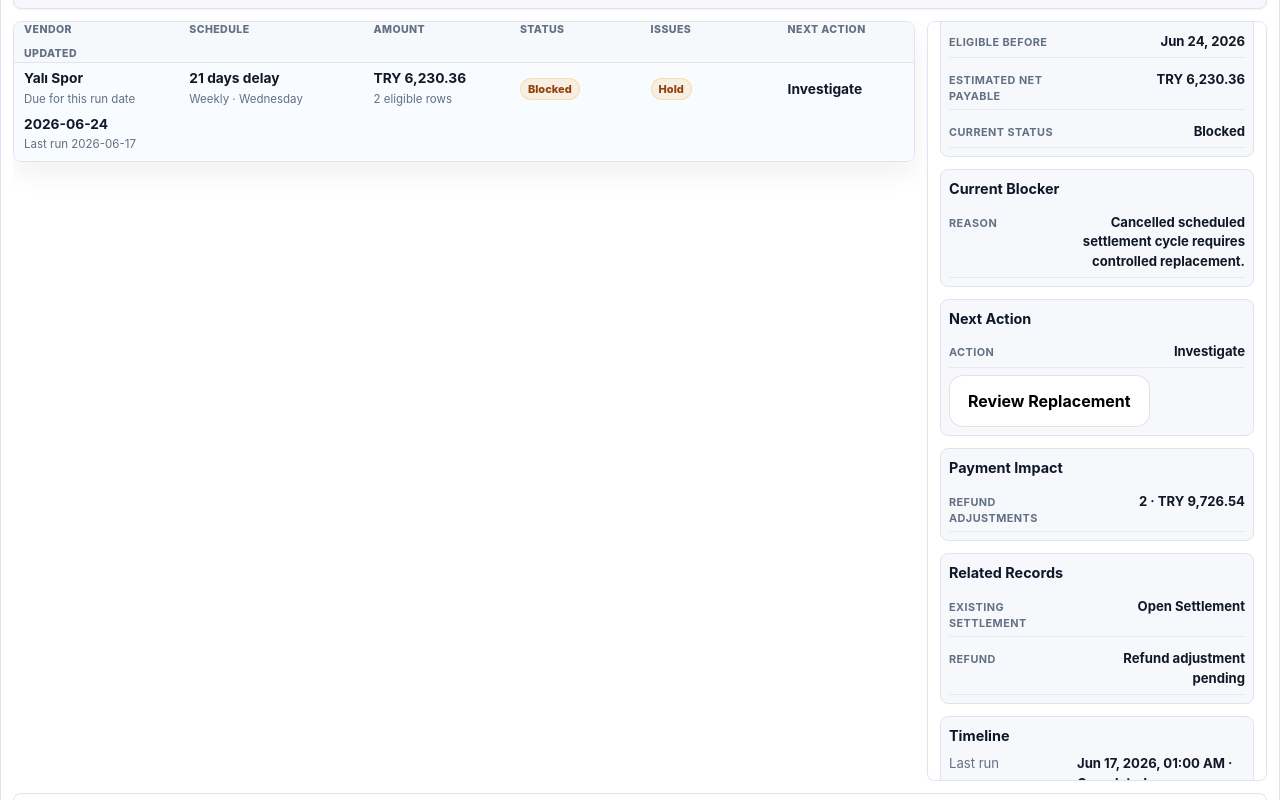
Test: AdminScheduledSettlementsPage › shows BLOCKED assessment reasons without a create action
(page scrolled)
Click the button "Review Replacement" at (1049, 401), box x1=949 y1=375 x2=1150 y2=427
(page scrolled)
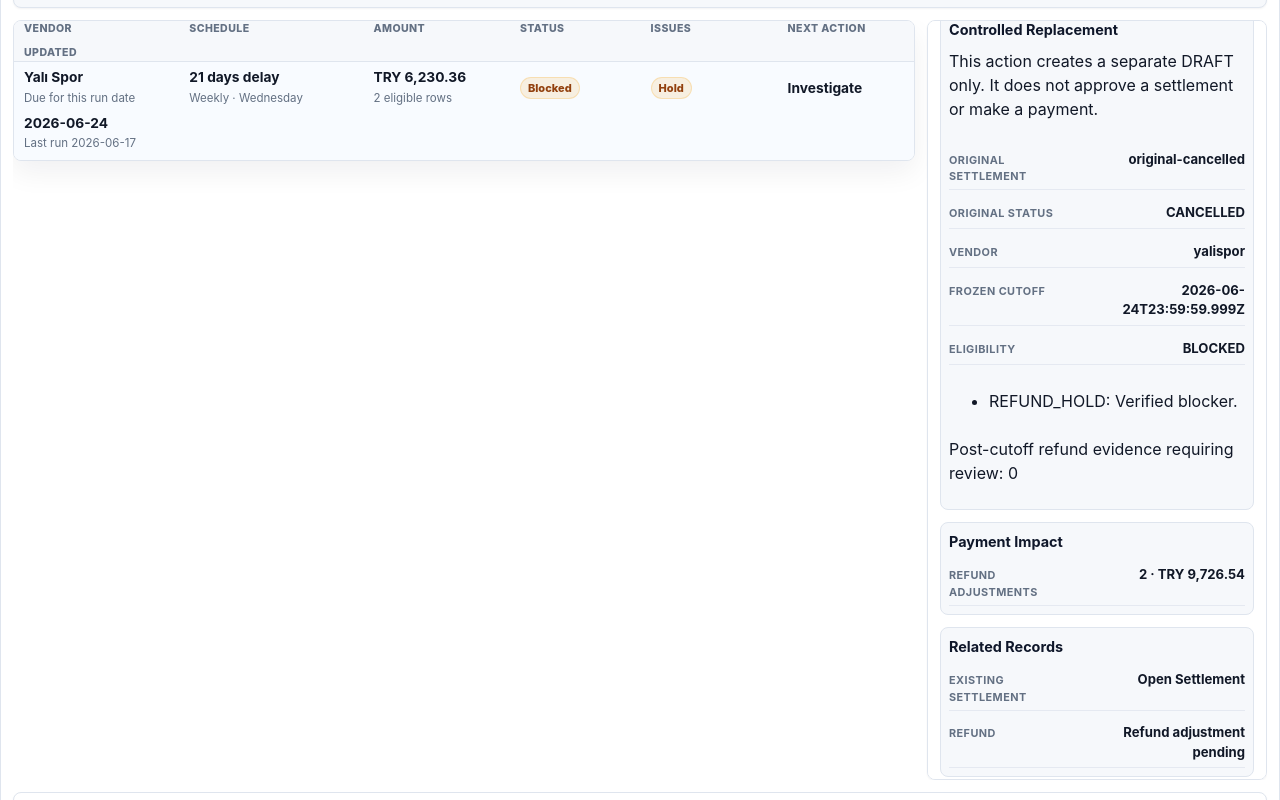
expect the text "BLOCKED" is shown: met, box x1=1183 y1=340 x2=1245 y2=356
expect the list item "REFUND_HOLD: Verified blocker." is shown: met, box x1=989 y1=389 x2=1245 y2=413
